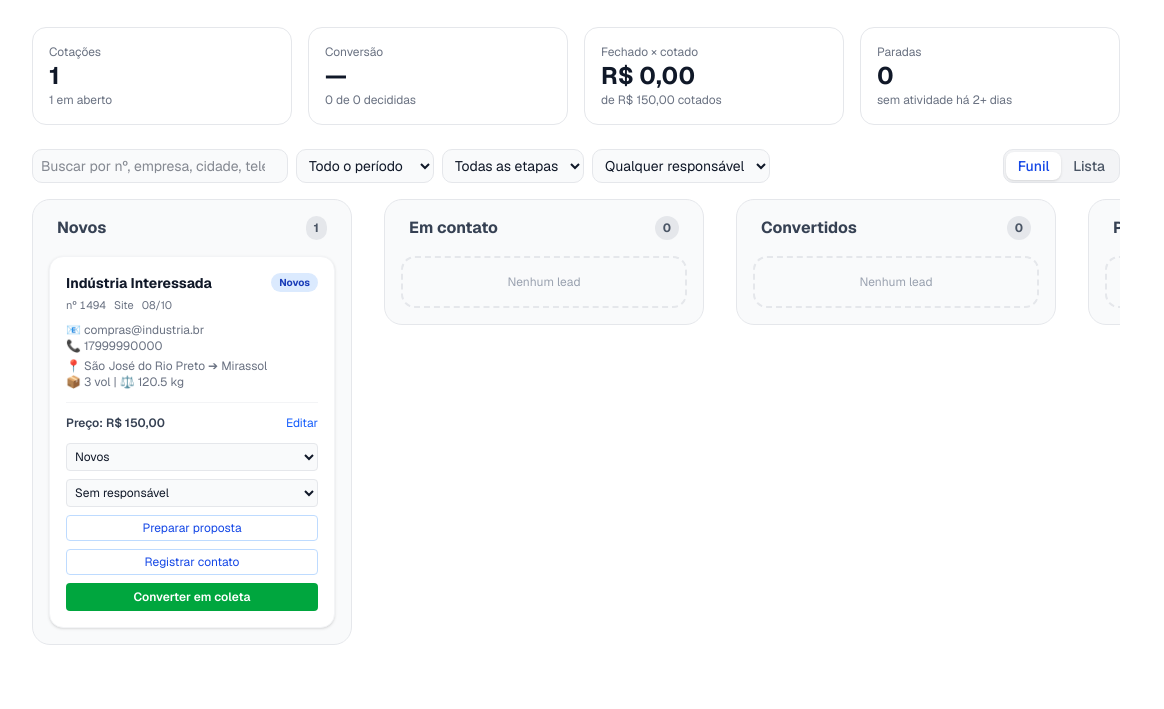
Test: tela do funil de cotações › o formulário de conversão vem preenchido pelo lead, lista só clientes ativos e mostra a carga só para leitura
(page scrolled)
Click the button "Converter em coleta" at [192, 596], box 66,582 -> 318,610
(page scrolled)
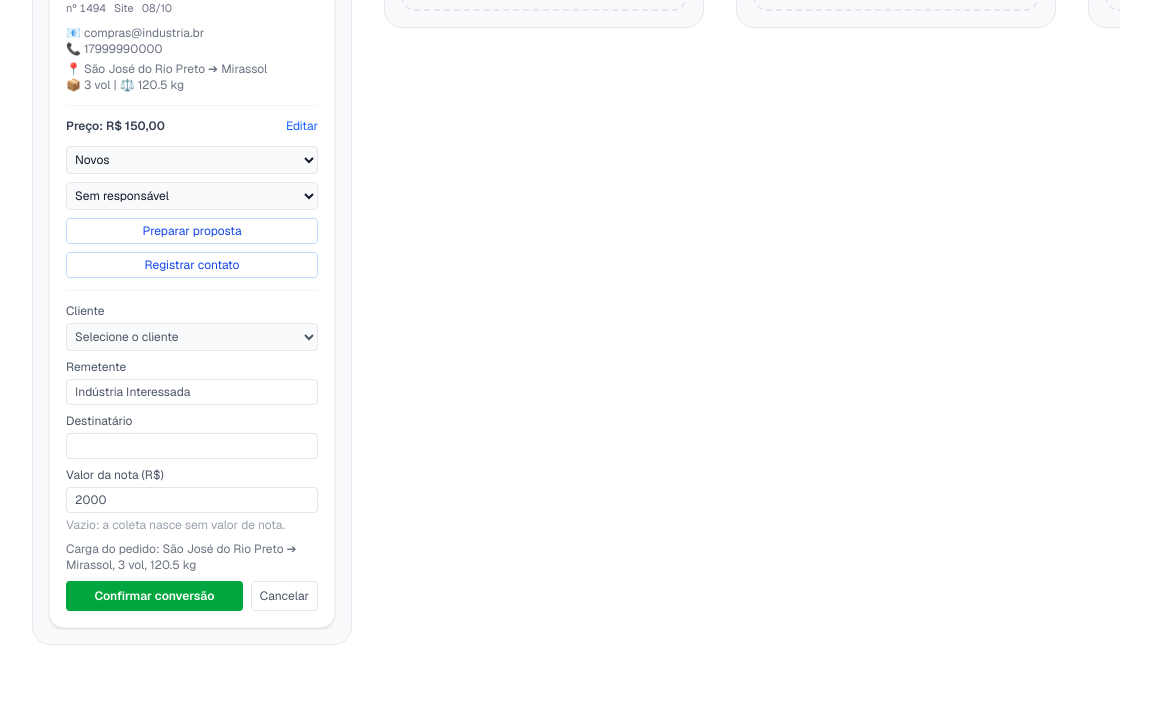
Result: the field named "sender" holds "Indústria Interessada" at 66,378 -> 318,404
Result: the field named "receiver" is empty at 66,432 -> 318,458
Result: the field named "invoiceValue" holds "2000" at 66,486 -> 318,512
